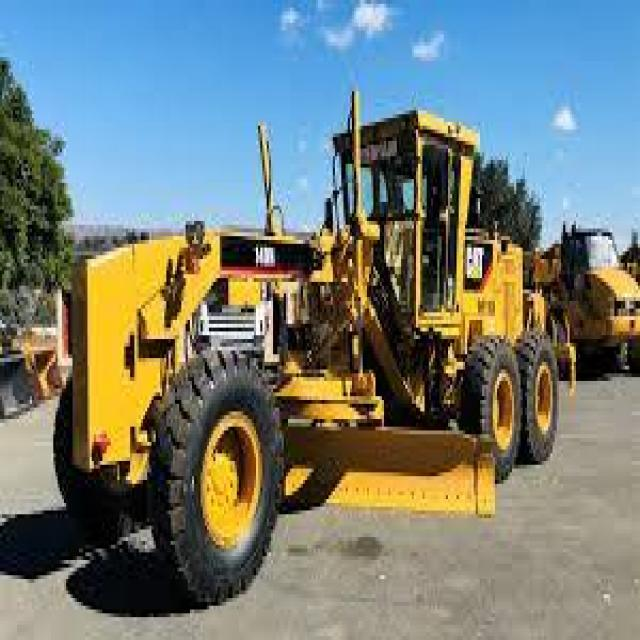Grader: (15, 84, 563, 598)
